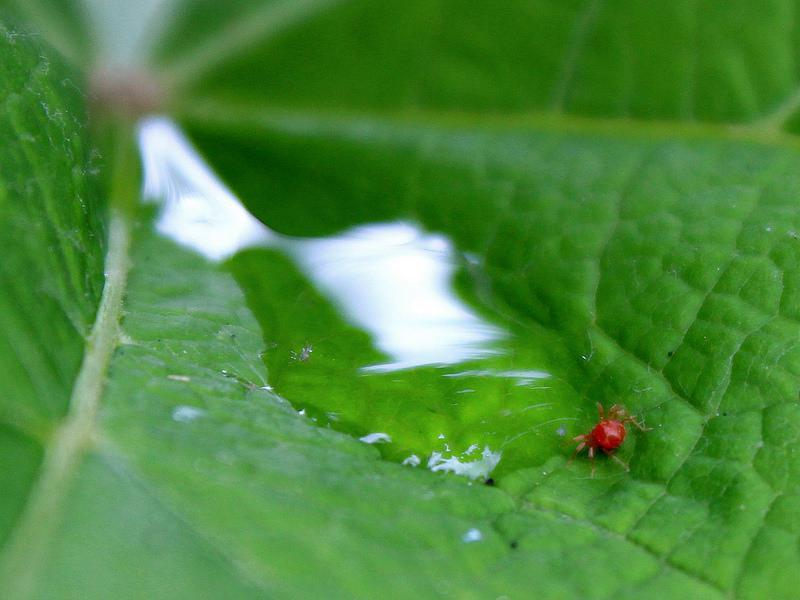tiny_pests: (561, 392, 660, 477)
